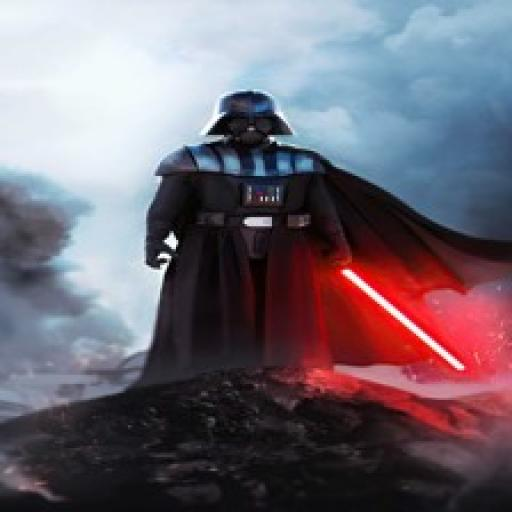human: (146, 82, 354, 403)
sith saber: (315, 235, 472, 379)
